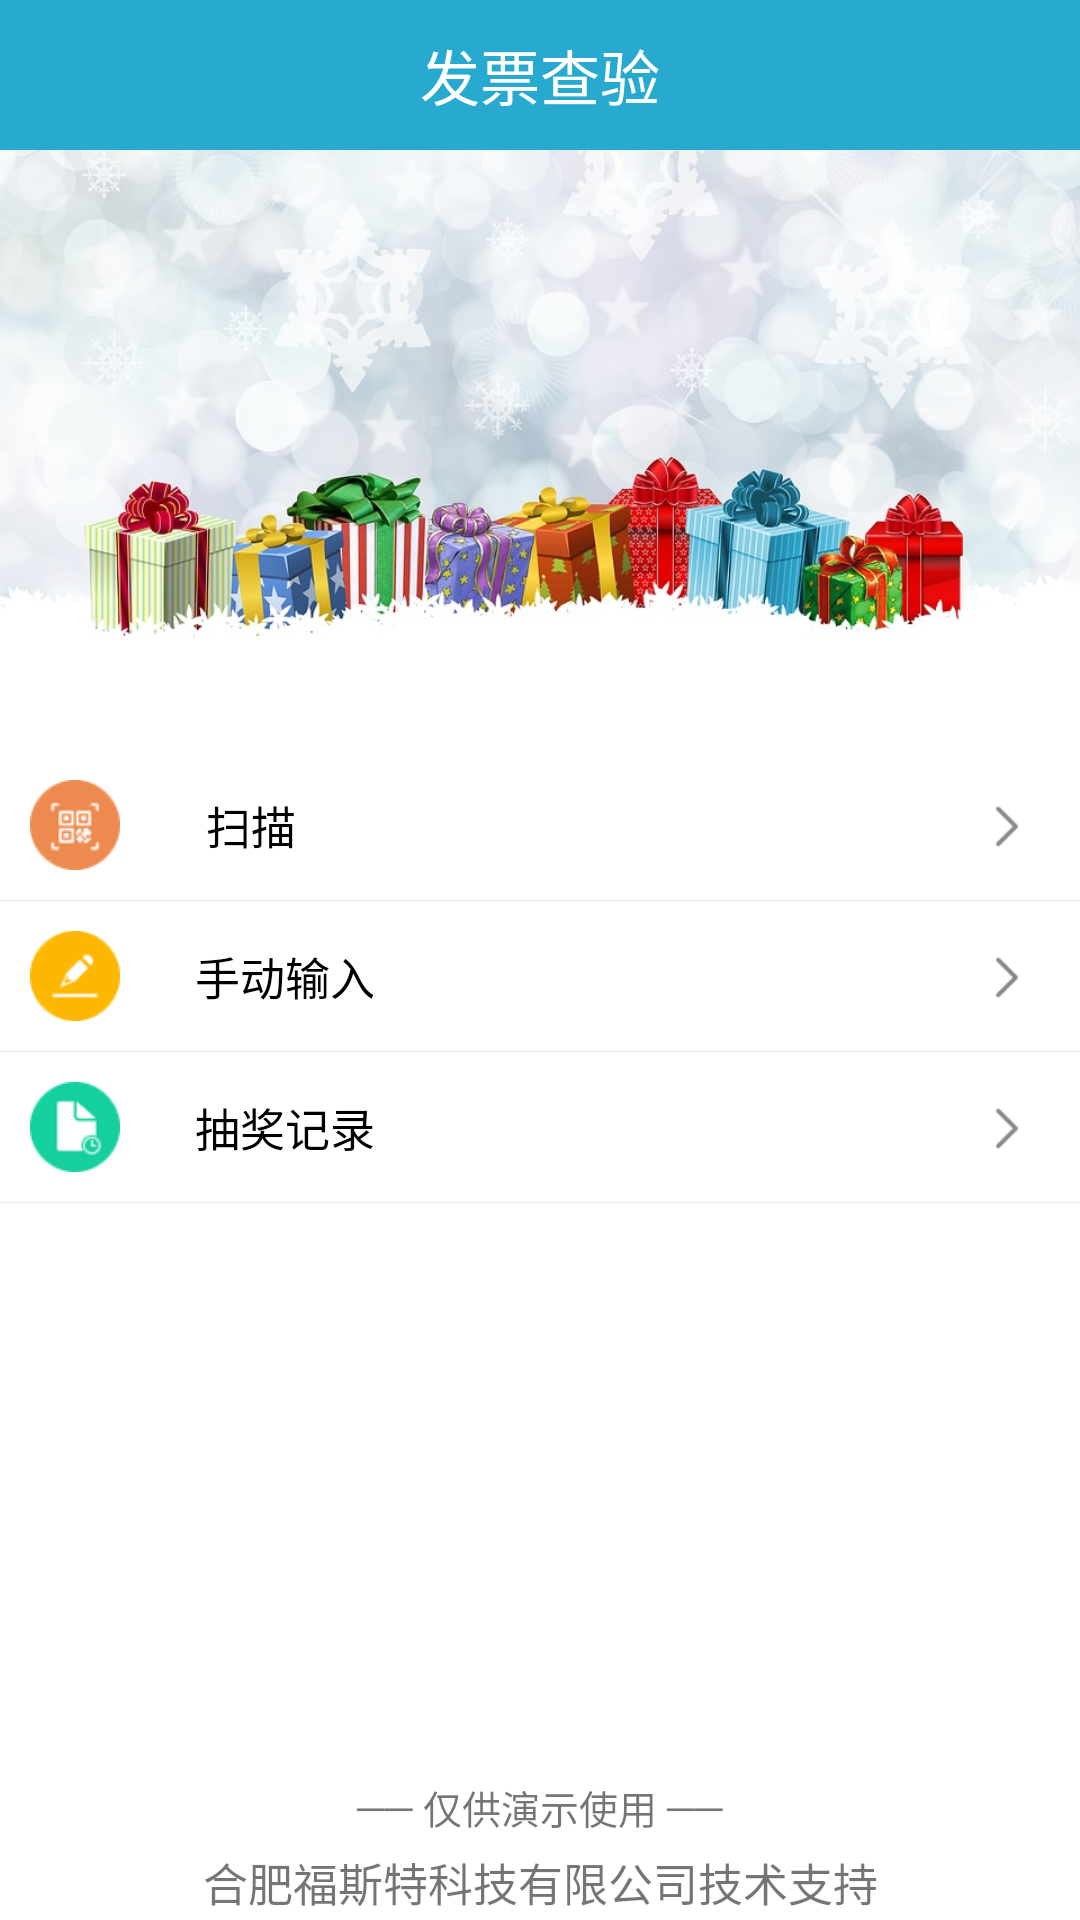

Point at icon controls on the screen. Image size 1080×1920, points as point (x, y).
history: point (75, 1127)
input: point (75, 976)
right: point (1007, 826), point (1007, 977), point (1007, 1128)
scan: point (75, 825)
